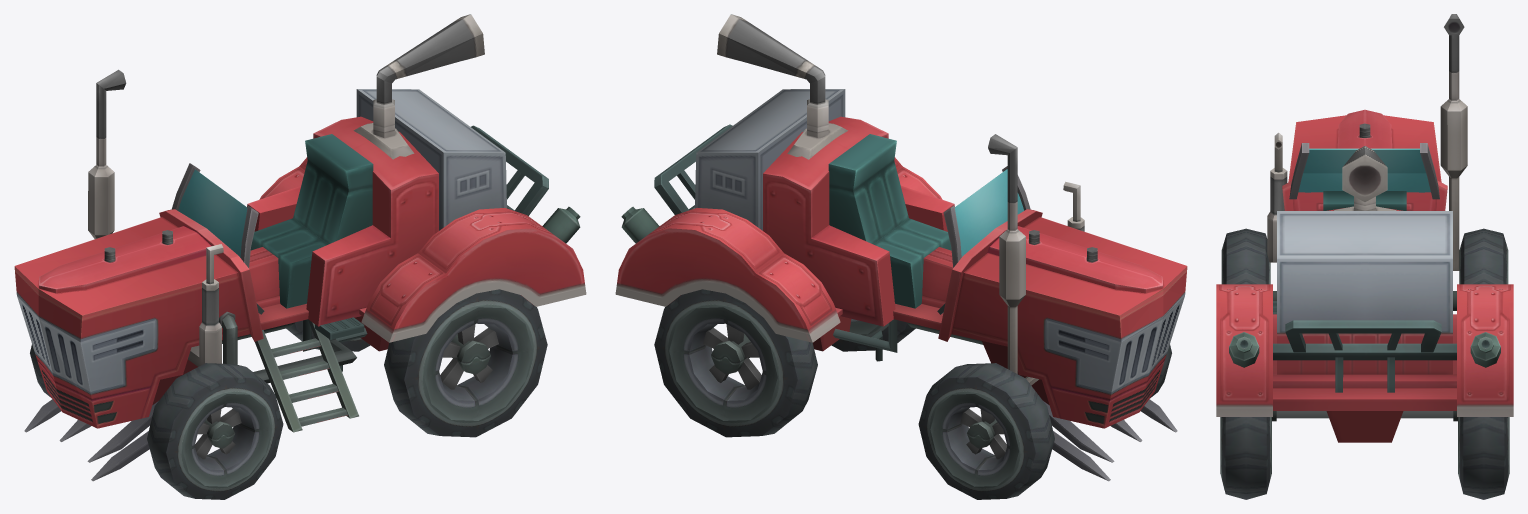
File: scene_lawennushandao_tuolaji01.FBX
3 renders of one model, left to right at view 1: azimuth 30°, elevation 25°; view 2: azimuth 150°, elevation 25°; view 3: azimuth 270°, elevation 25°, orthographic.
Parts seen in each view (by area): view 1: scene_lawennushandao_tuolaji01; view 2: scene_lawennushandao_tuolaji01; view 3: scene_lawennushandao_tuolaji01.
Part boxes in pixels (x1,y1,x2,y2): scene_lawennushandao_tuolaji01: (14, 14, 586, 499); scene_lawennushandao_tuolaji01: (615, 14, 1187, 499); scene_lawennushandao_tuolaji01: (1216, 14, 1513, 499).
Bounding box in the file's own units: 391 × 282 × 206.
